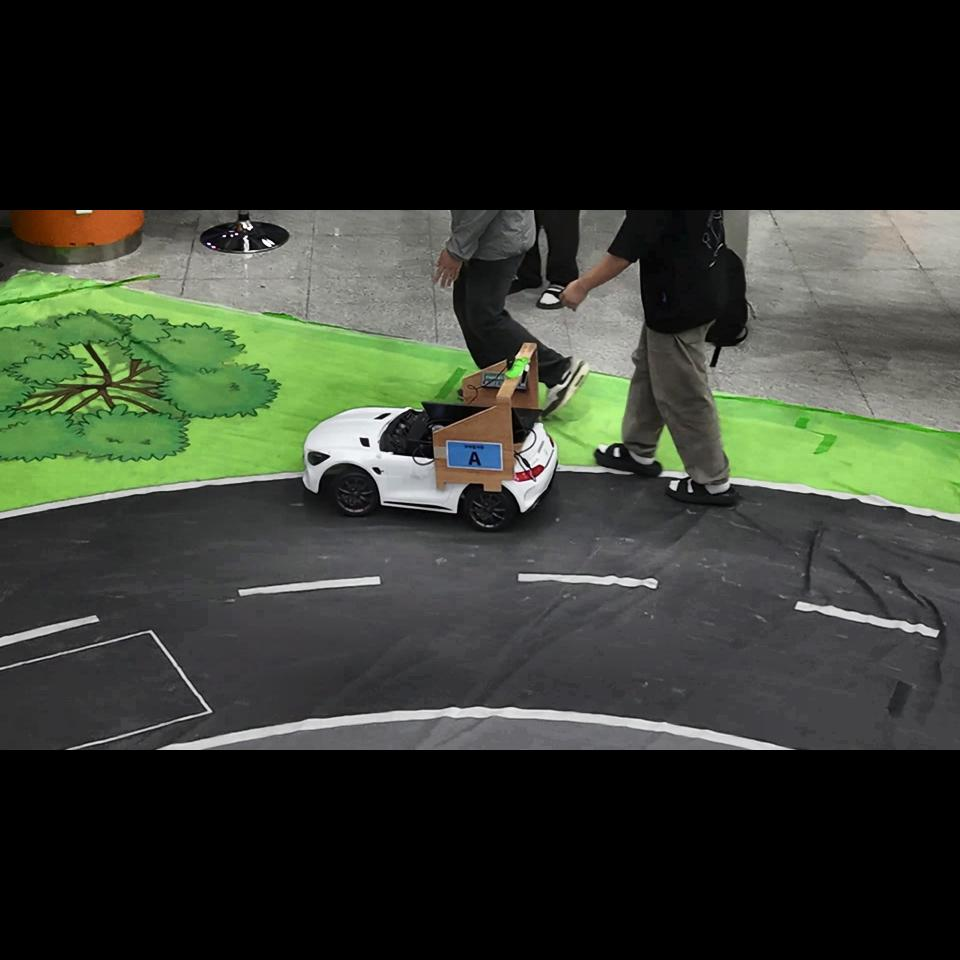broken_line: (794, 600, 940, 638), (0, 615, 100, 647), (238, 576, 381, 597), (517, 573, 659, 589)
